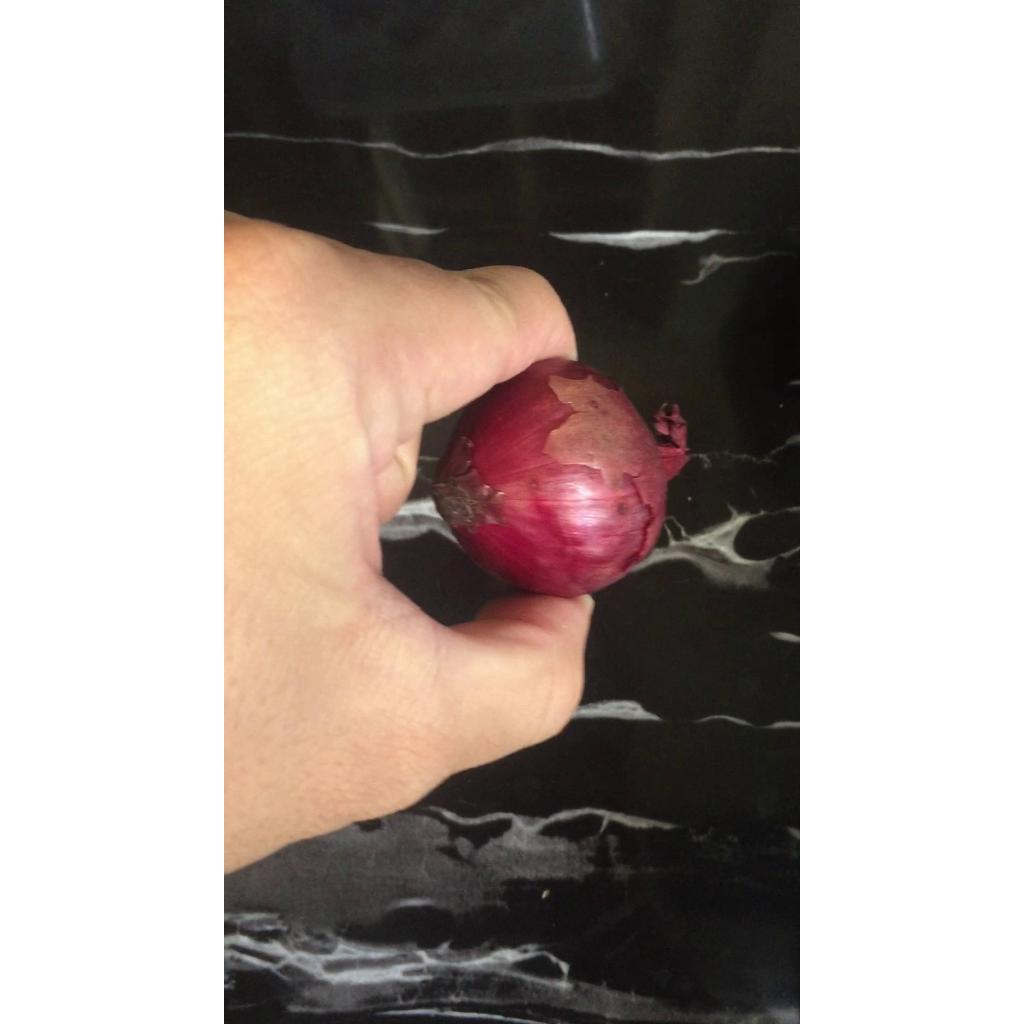Onion: (431, 358, 689, 597)
